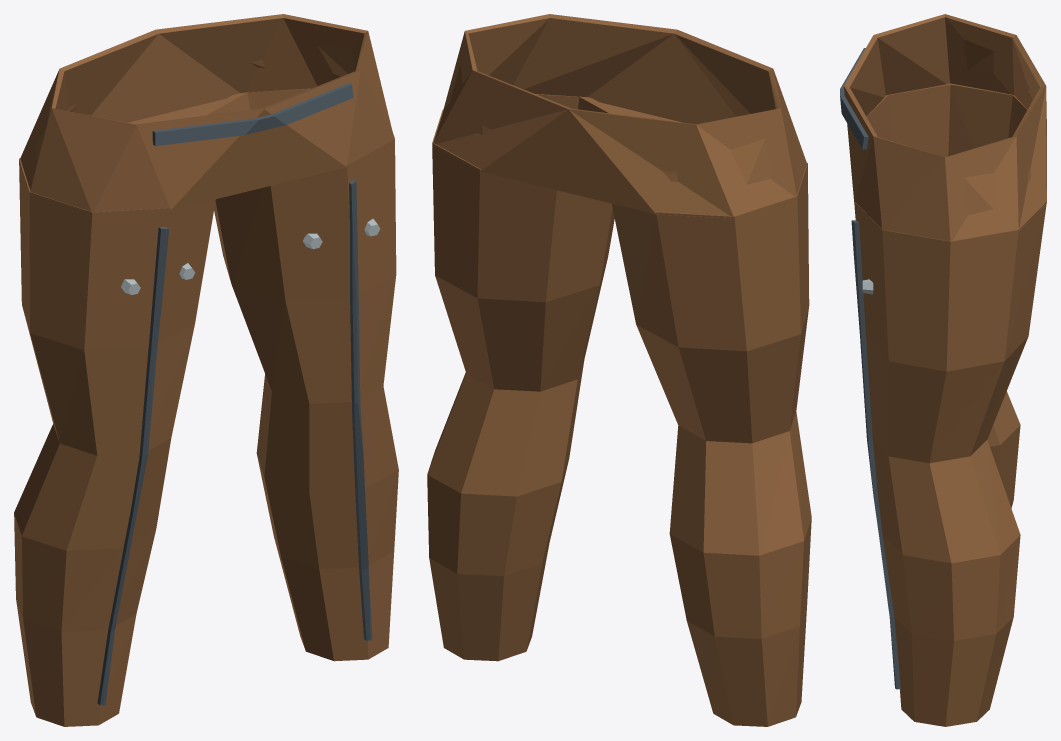
File: studded_legs-female.glb
The picture shows the model from 3 angles, left to right: view 1: azimuth 30°, elevation 25°; view 2: azimuth 150°, elevation 25°; view 3: azimuth 270°, elevation 25°; orthographic projection. The views are drawn at different scales.
Parts seen in each view (by area): view 1: studded trouser leg -1, studded trouser leg 1, studded trouser pelvis yoke, Trouser reinforced front seam 1, Trouser reinforced front seam -1, Trouser waist facing; view 2: studded trouser leg -1, studded trouser leg 1, studded trouser pelvis yoke; view 3: studded trouser leg 1, studded trouser pelvis yoke, studded trouser leg -1, Trouser reinforced front seam 1, Trouser waist facing.
Part boxes in pixels (x1,y1,x2,y2): studded trouser leg -1: [14, 158, 215, 726]; studded trouser leg 1: [195, 88, 398, 661]; studded trouser pelvis yoke: [20, 14, 393, 212]; Trouser reinforced front seam 1: [349, 179, 372, 640]; Trouser reinforced front seam -1: [97, 227, 169, 705]; Trouser waist facing: [152, 83, 353, 146]; studded trouser leg -1: [612, 163, 811, 726]; studded trouser leg 1: [427, 94, 621, 661]; studded trouser pelvis yoke: [433, 14, 806, 218]; studded trouser leg 1: [854, 201, 1046, 726]; studded trouser pelvis yoke: [844, 14, 1046, 241]; studded trouser leg -1: [866, 83, 1027, 508]; Trouser reinforced front seam 1: [851, 220, 900, 689]; Trouser waist facing: [840, 48, 868, 149].
Bounding box in the file's own units: 2.2 × 3.45 × 1.15.
